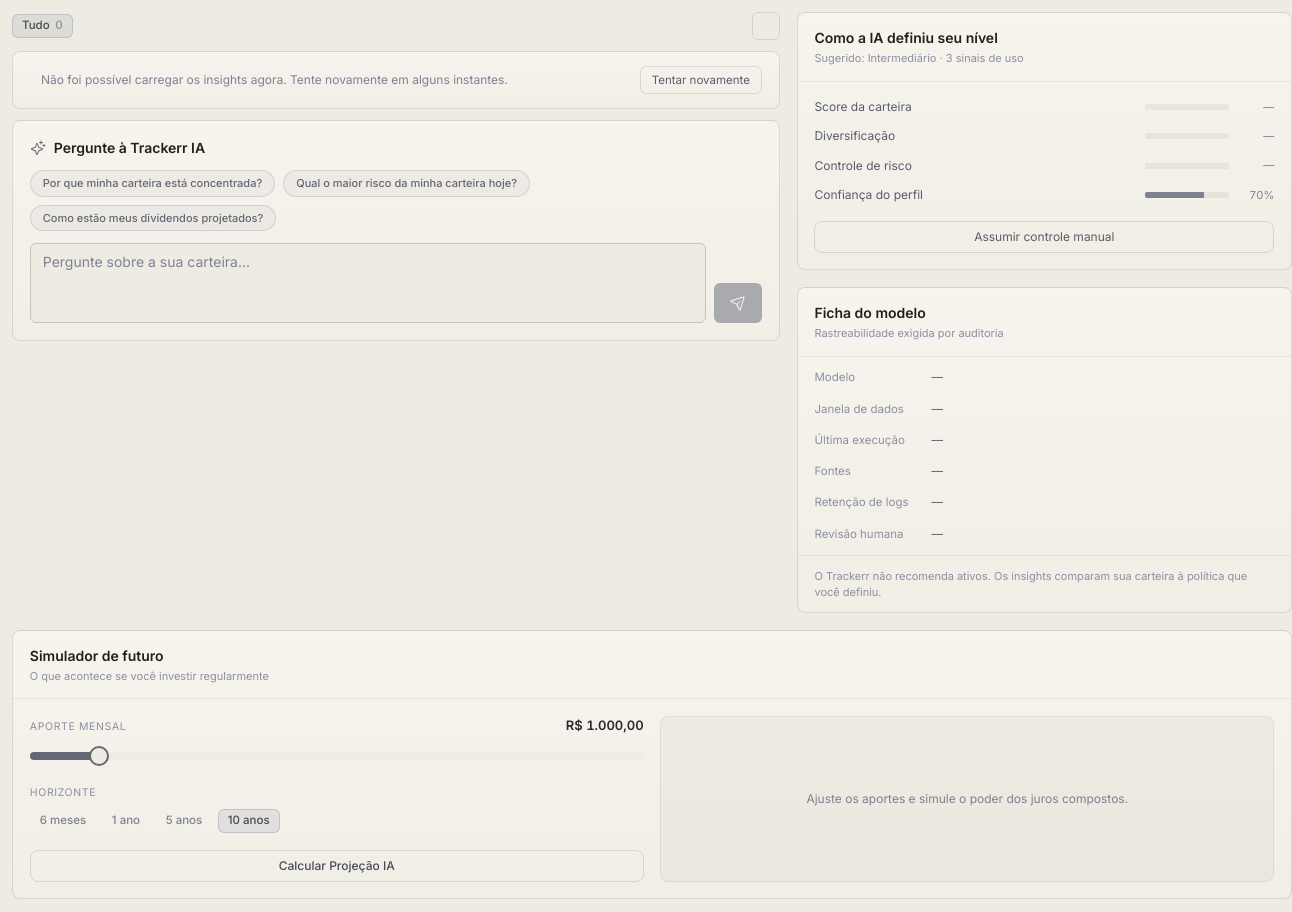
it: AIInsights — feed de insights › mostra erro com nova tentativa quando a análise falha
expect the text "Não foi possível carregar os insights agora" is shown: met, box [41,72,508,87]
Click the button "Tentar novamente" at (701, 80), box [640,66,762,94]
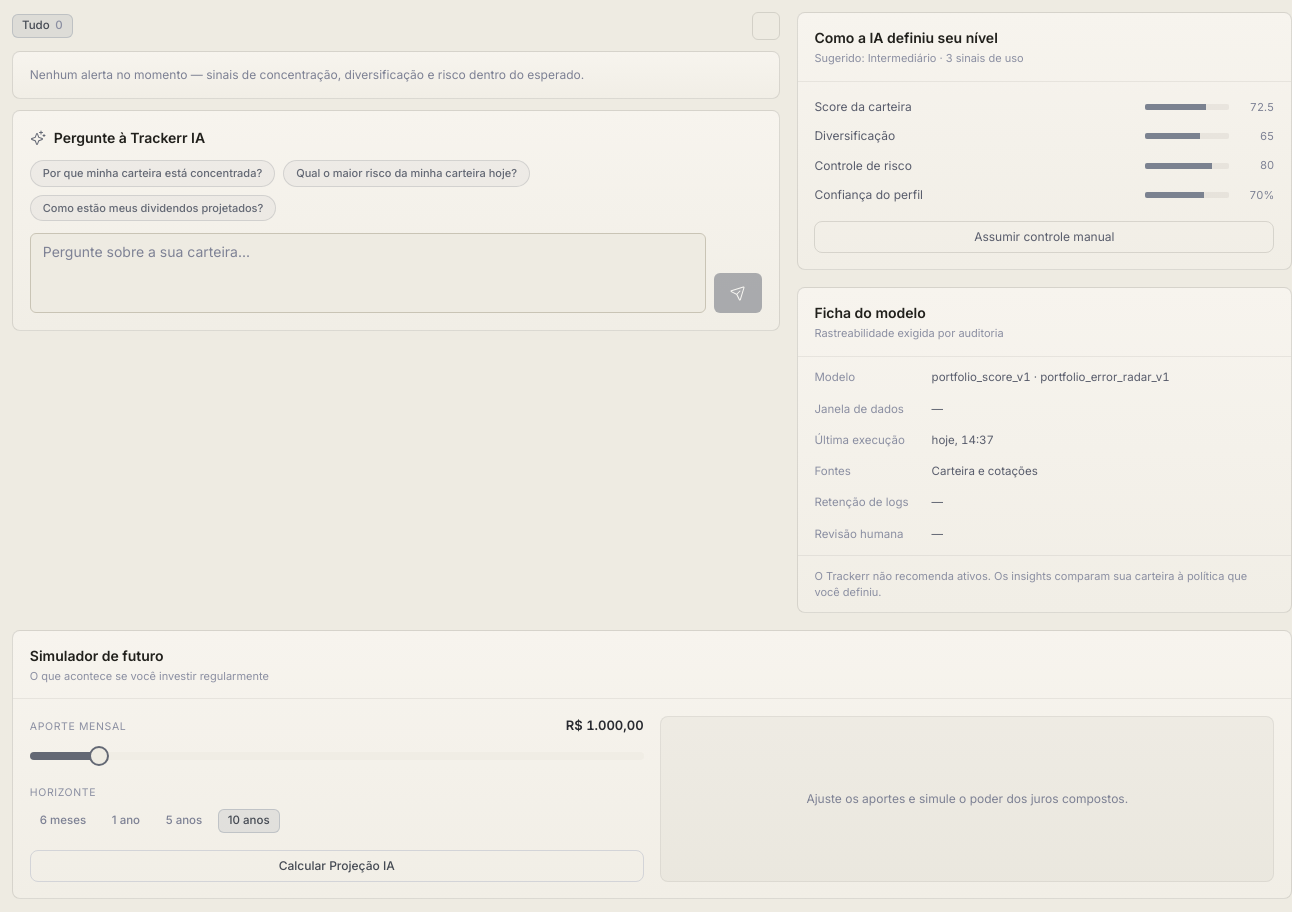
expect the text "Nenhum alerta no momento" is shown: met, box [30,67,584,82]
